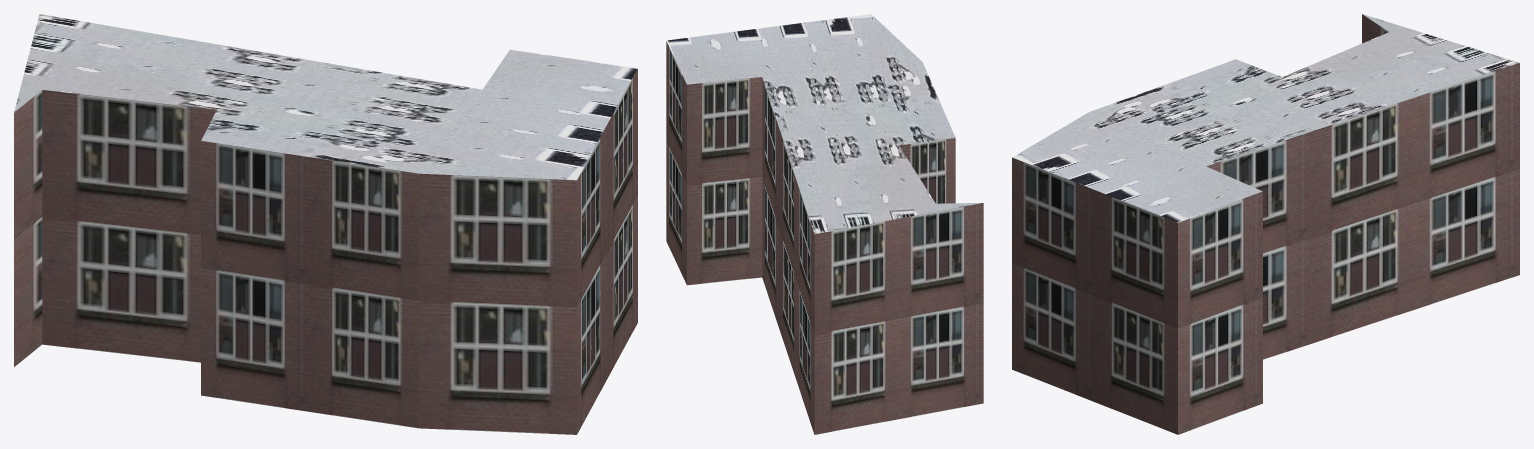
Rendered from ResTex__1471.fbx.
The picture shows the model from 3 angles, left to right: view 1: azimuth 30°, elevation 25°; view 2: azimuth 150°, elevation 25°; view 3: azimuth 270°, elevation 25°; orthographic projection. The views are drawn at different scales.
Visible parts, largest first — view 1: CityEngineMaterial_12_m, CityEngineMaterial_4_m; view 2: CityEngineMaterial_12_m, CityEngineMaterial_4_m; view 3: CityEngineMaterial_12_m, CityEngineMaterial_4_m.
Boxes of the visible parts, x1,y1,x2,y2 form: CityEngineMaterial_12_m: [14, 68, 637, 434]; CityEngineMaterial_4_m: [14, 14, 637, 180]; CityEngineMaterial_12_m: [666, 41, 983, 434]; CityEngineMaterial_4_m: [666, 14, 981, 234]; CityEngineMaterial_12_m: [1012, 14, 1519, 434]; CityEngineMaterial_4_m: [1012, 14, 1519, 222].
Bounding box in the file's own units: 12.66 × 6 × 13.01.
Materials: 2 (2 with a texture image).
